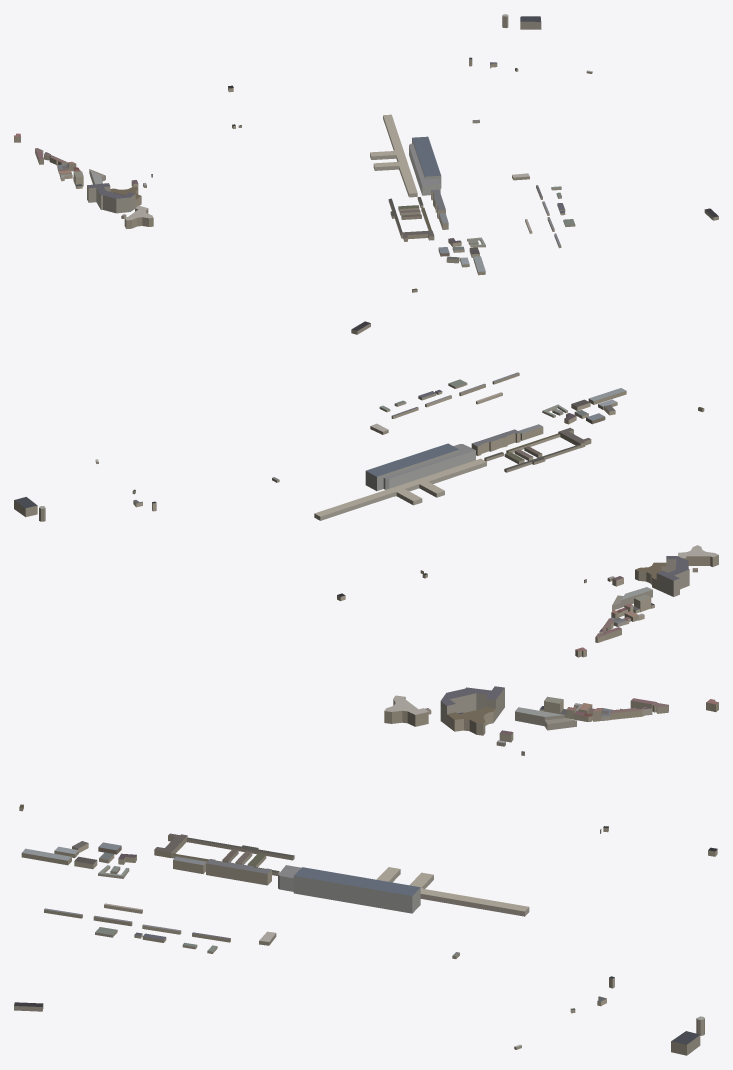
The picture shows the model from 3 angles, top to bottom: view 1: azimuth 30°, elevation 25°; view 2: azimuth 150°, elevation 25°; view 3: azimuth 270°, elevation 25°; orthographic projection. The views are drawn at different scales.
Visible parts, largest first — view 1: tuile; view 2: tuile; view 3: tuile.
Boxes of the visible parts, x1,y1,x2,y2 form: tuile: [14, 14, 718, 292]; tuile: [14, 321, 718, 657]; tuile: [14, 686, 718, 1055].
Bounding box in the file's own units: 1003 × 28.28 × 855.
